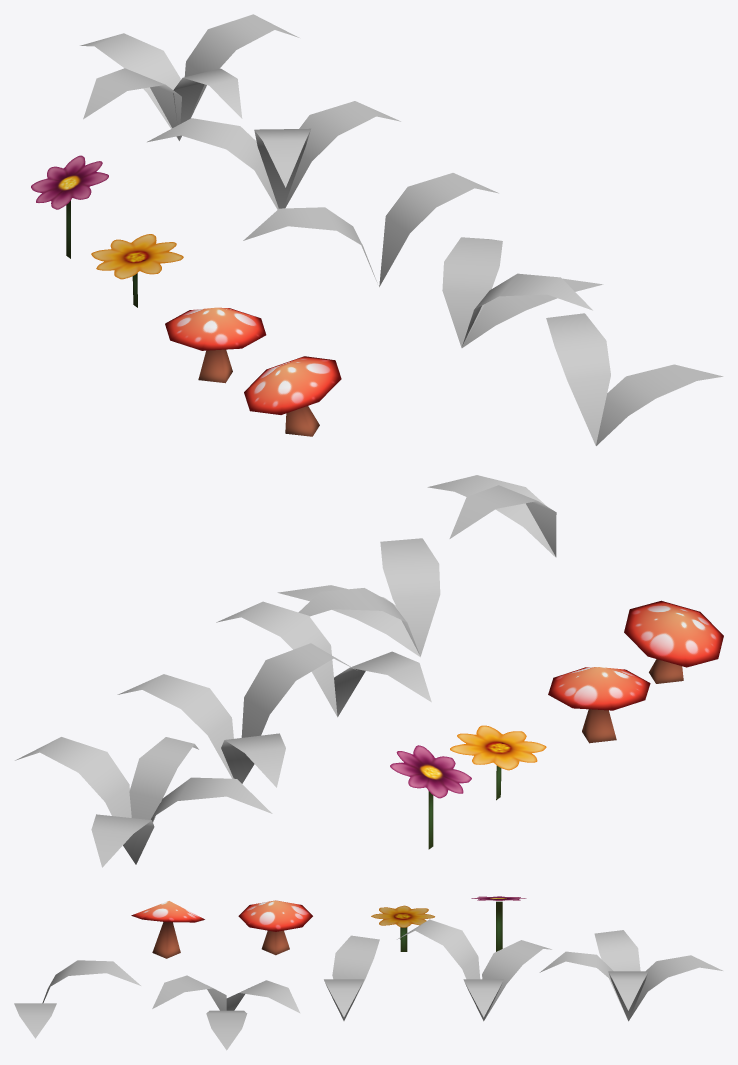
The model's file is vegetation.FBX.
3 views of the same model, one above another, from view 1: azimuth 30°, elevation 25°; view 2: azimuth 150°, elevation 25°; view 3: azimuth 270°, elevation 25° (orthographic). The views are drawn at different scales.
Parts seen in each view (by area): view 1: plant_01, plant_05, plant_04, plant_02, plant_03, mushroom_02, mushroom_01, flower_02, flower_01; view 2: plant_01, plant_02, plant_04, plant_03, mushroom_02, mushroom_01, plant_05, flower_02, flower_01; view 3: plant_01, plant_02, plant_04, plant_03, mushroom_01, plant_05, mushroom_02, flower_02, flower_01.
Part boxes in pixels (x1,y1,x2,y2): plant_01: (80, 14, 299, 140); plant_05: (546, 313, 723, 445); plant_04: (442, 237, 603, 347); plant_02: (147, 101, 400, 209); plant_03: (243, 173, 498, 286); mushroom_02: (244, 356, 341, 436); mushroom_01: (165, 307, 266, 383); flower_02: (91, 234, 183, 307); flower_01: (31, 155, 108, 258); plant_01: (15, 737, 272, 867); plant_02: (117, 643, 355, 787); plant_04: (277, 538, 440, 657); plant_03: (216, 601, 431, 717); mushroom_02: (624, 600, 723, 683); mushroom_01: (548, 667, 650, 743); plant_05: (427, 475, 556, 557); flower_02: (450, 725, 546, 800); flower_01: (390, 745, 471, 849); plant_01: (539, 930, 722, 1021); plant_02: (397, 919, 551, 1021); plant_04: (152, 975, 300, 1050); plant_03: (324, 935, 379, 1020); mushroom_01: (238, 900, 312, 955); plant_05: (14, 960, 140, 1038); mushroom_02: (131, 901, 204, 958); flower_02: (371, 905, 434, 951); flower_01: (471, 896, 526, 951).
Size of the model in its own units: 14.31 by 4.03 by 30.94.
